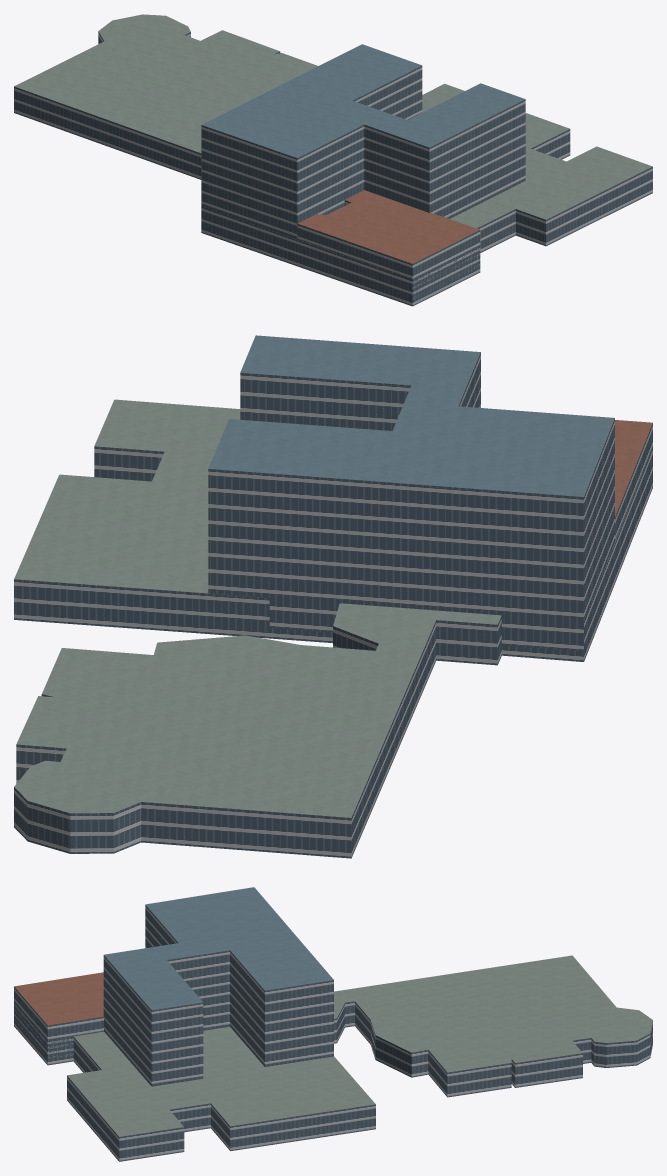
3 views of the same model, one above another, from view 1: azimuth 30°, elevation 25°; view 2: azimuth 150°, elevation 25°; view 3: azimuth 270°, elevation 25° (orthographic). The views are drawn at different scales.
Visible parts, largest first — view 1: hospital-main; view 2: hospital-main; view 3: hospital-main.
Boxes of the visible parts, x1,y1,x2,y2 form: hospital-main: [14, 14, 652, 306]; hospital-main: [14, 335, 652, 858]; hospital-main: [14, 887, 652, 1161].
Size of the model in its own units: 141 by 36.6 by 209.
2 materials, 2 textured.
